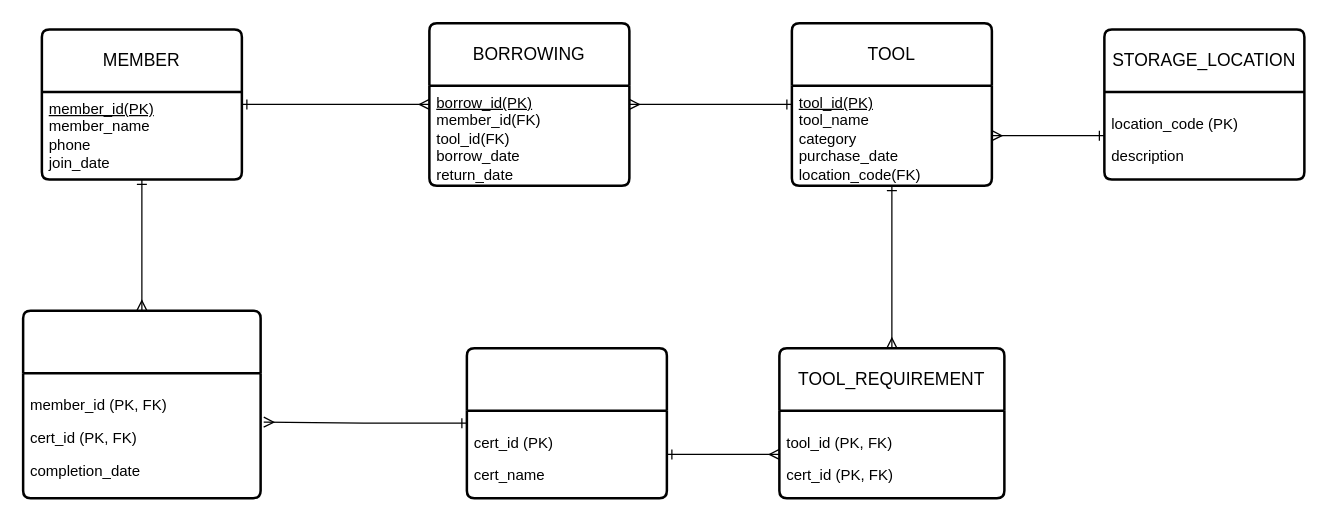
Image size: 1326x521. Some labels were removed from this diagram. Here are the shapes that lost their labels. From the top down, the box of each, then its label:
(21, 309, 261, 499): MEMBER_CERTIFICATION
(465, 346, 668, 499): CERTIFICATION
